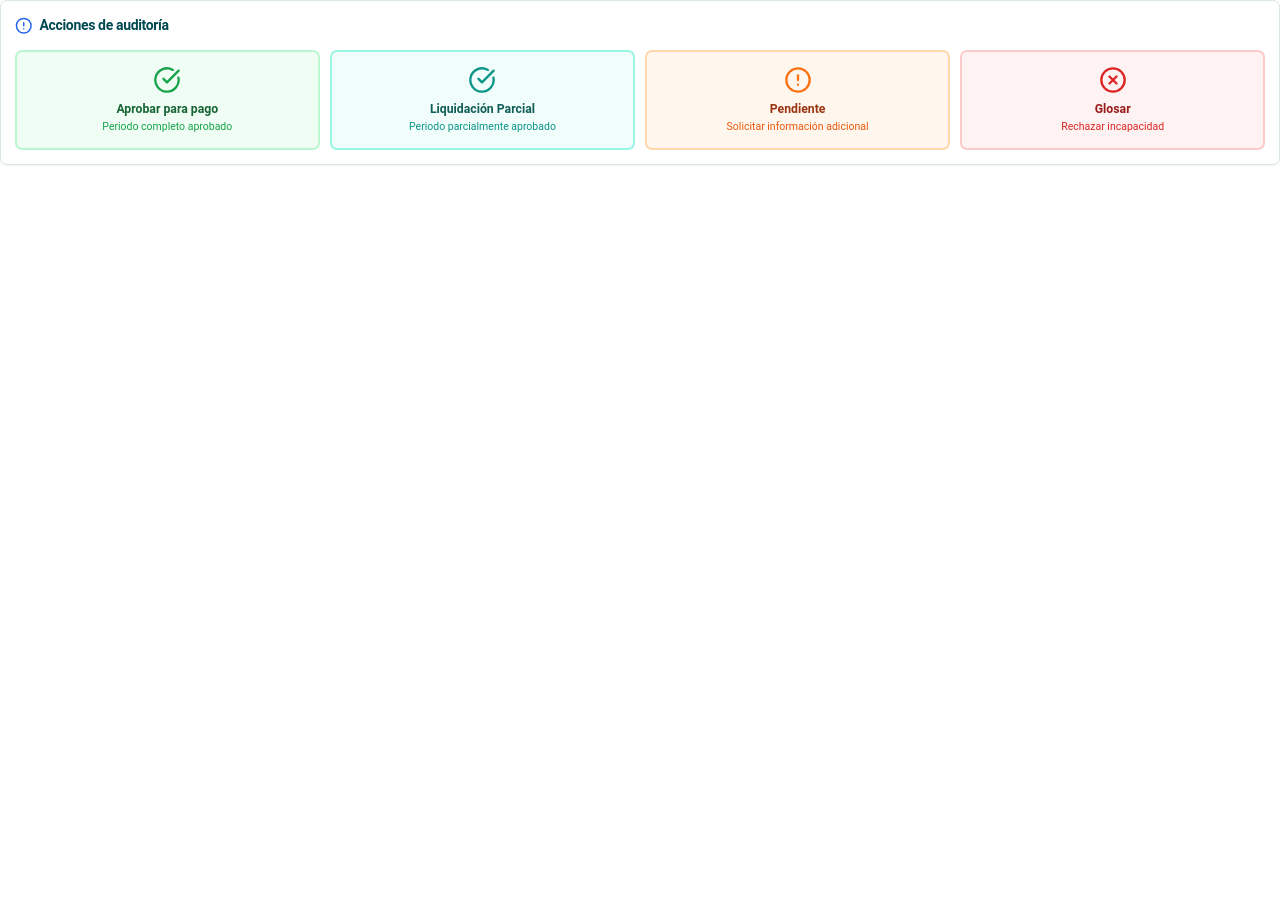
Test case: AuditoriaPanel — precarga de plantilla en formulario de aprobación › precarga nombre_ips, nombre_medico y canal_recepcion ("Portal IT") y resuelve la descripción CIE-10 desde el catálogo
Click the button "Aprobar para pago Periodo completo aprobado": coordinates (167, 100) [15,50,320,150]
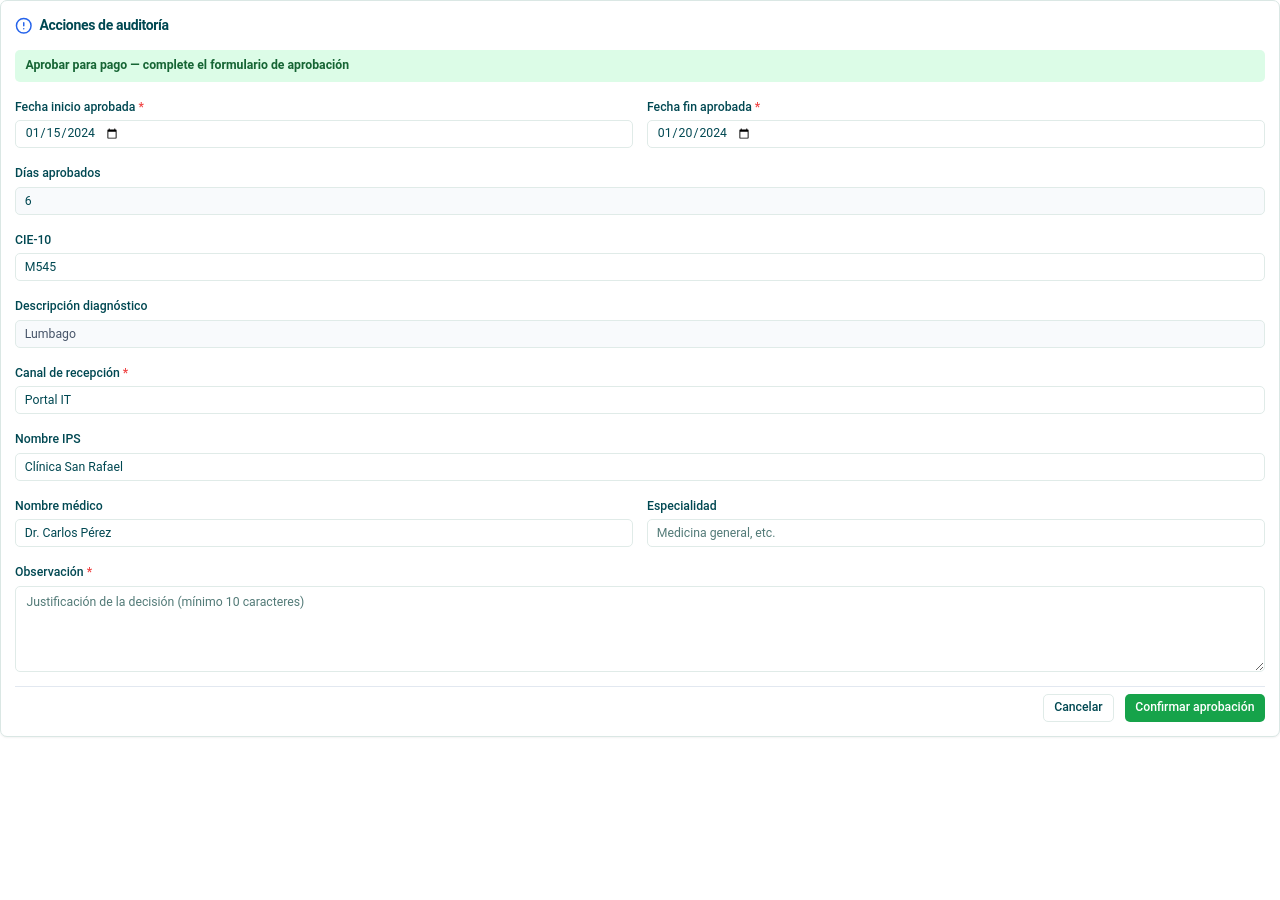
Expected: the field labelled "Nombre IPS" holds "Clínica San Rafael", [15,452,1265,480]
Expected: the field labelled "Nombre médico" holds "Dr. Carlos Pérez", [15,519,633,547]
Expected: the field labelled "Canal de recepción *" holds "Portal IT", [15,386,1265,414]
